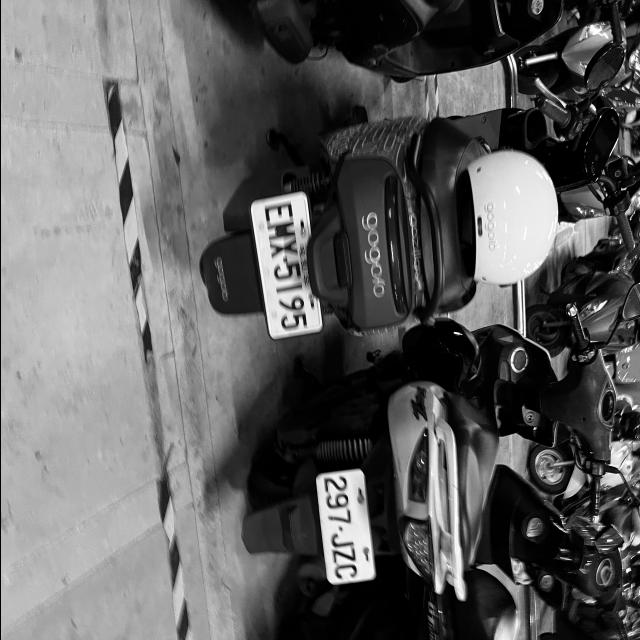-: (336, 526, 344, 532)
1: (274, 282, 302, 296)
2: (322, 475, 349, 496)
5: (272, 261, 301, 285), (278, 312, 307, 334), (282, 256, 288, 262)
7: (326, 508, 352, 524)
9: (277, 296, 304, 314), (324, 493, 349, 510)
C: (333, 564, 359, 581)
E: (262, 201, 293, 225)
J: (329, 533, 354, 549)
M: (266, 221, 296, 242)
X: (269, 236, 299, 259)
Z: (331, 547, 356, 564)
plate: (256, 197, 317, 338), (316, 471, 373, 585)
